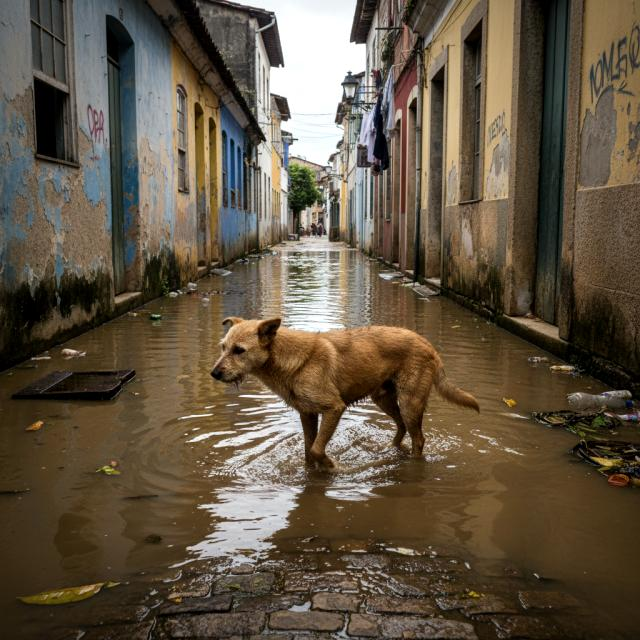dog: (202, 314, 503, 478)
